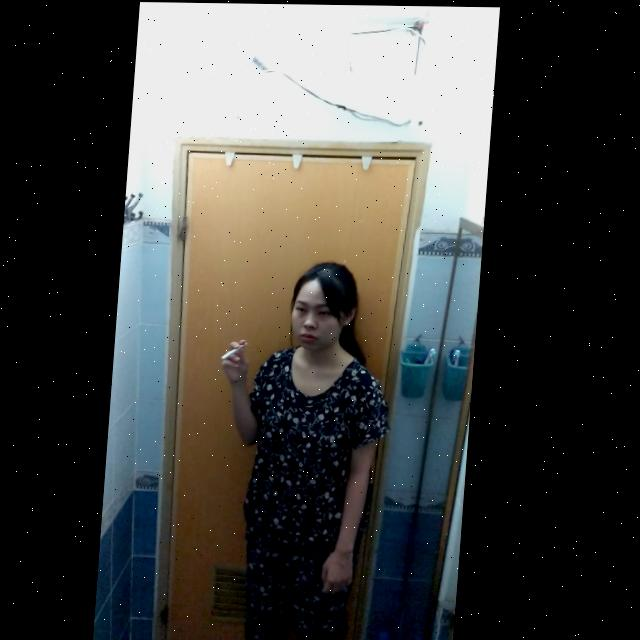cigarette: (227, 341, 253, 359)
